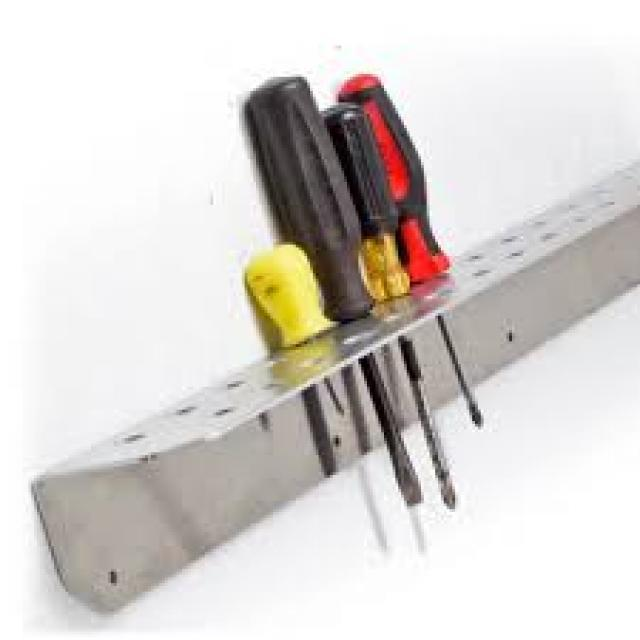screwdriver: (242, 74, 424, 518), (317, 103, 462, 510), (334, 70, 488, 431), (244, 243, 344, 488)
